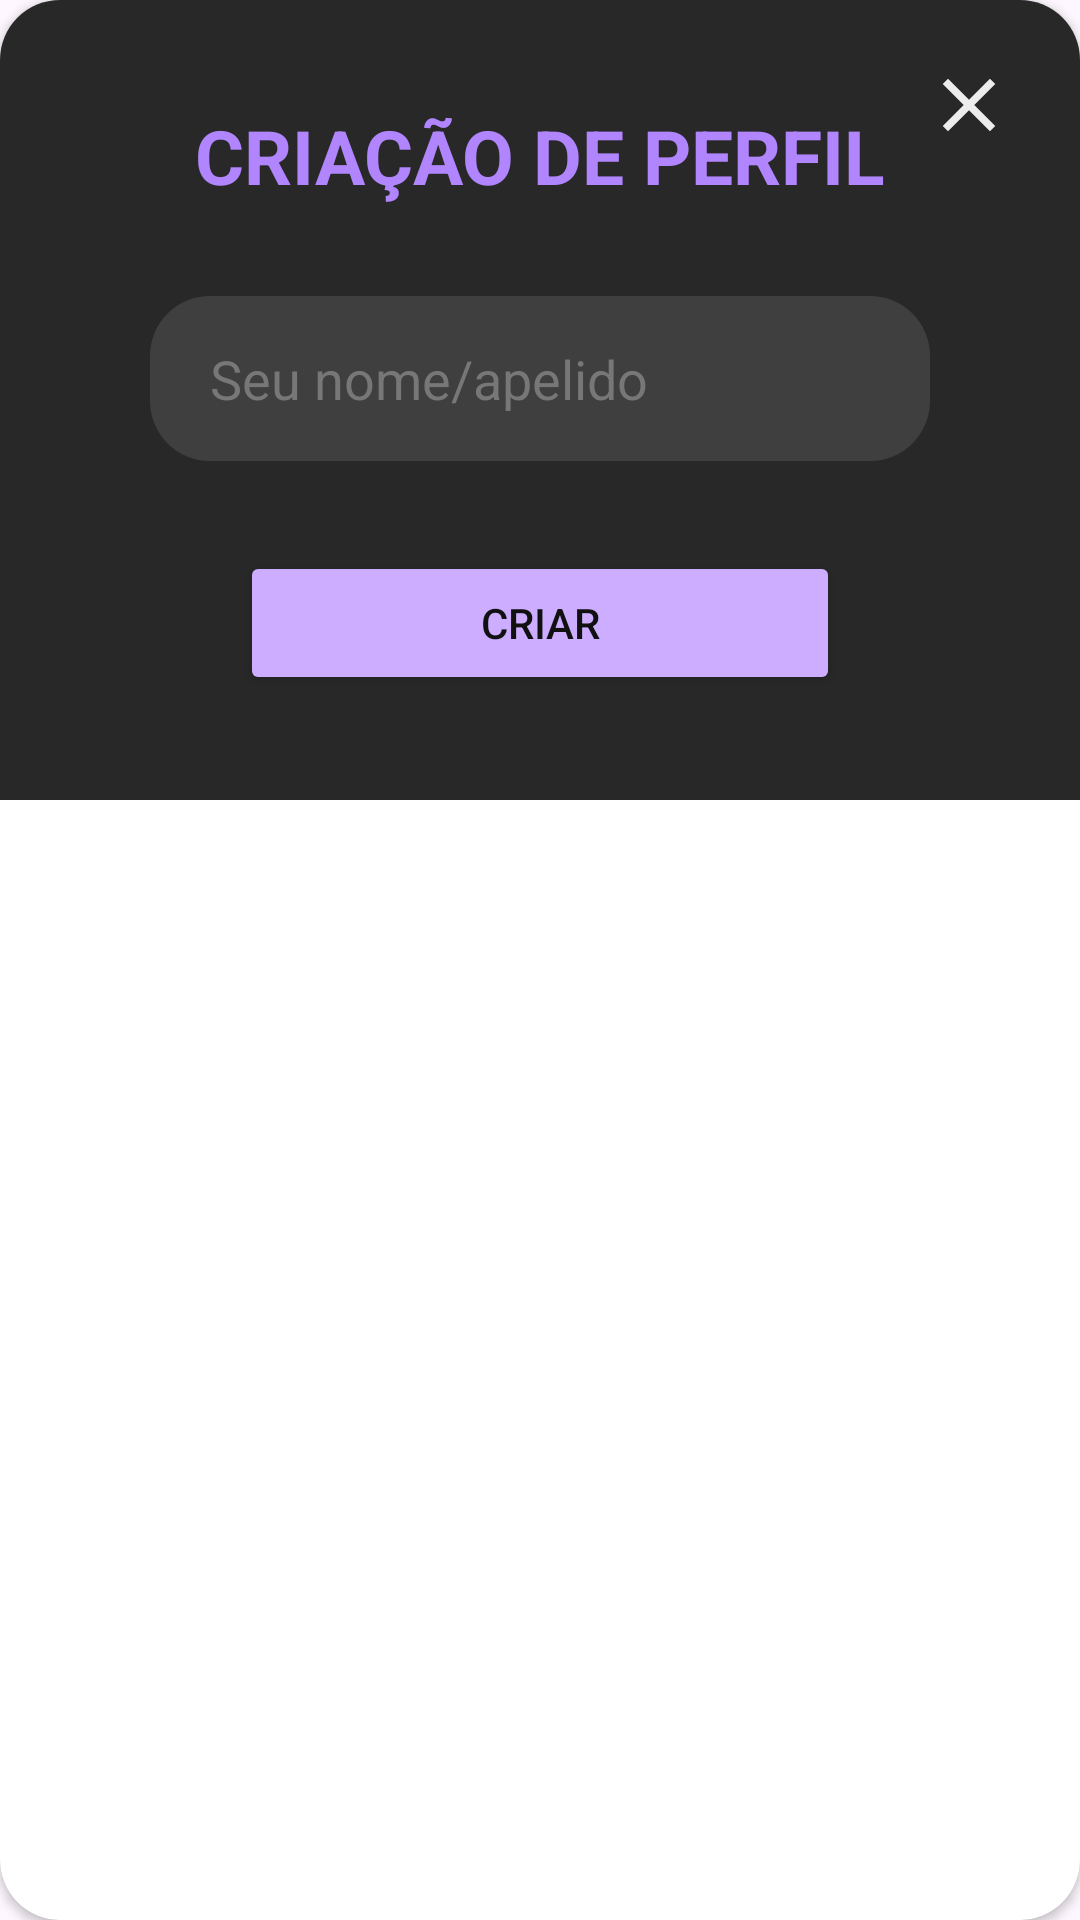

Where icons sit on this 1080×1920 app screen, as (left=x1, top=y1, right=x2, bottom=y2):
fechar: (left=943, top=79, right=995, bottom=131)
